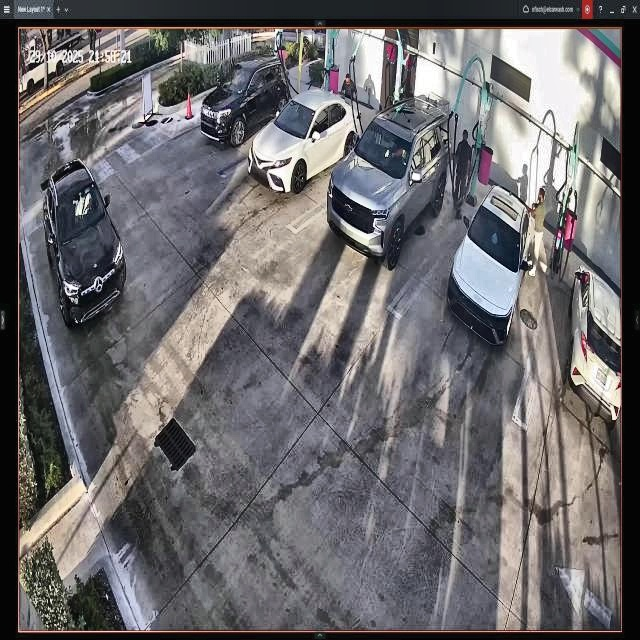Car: (324, 107, 444, 260), (446, 188, 530, 346), (257, 89, 361, 194), (201, 54, 286, 158)
